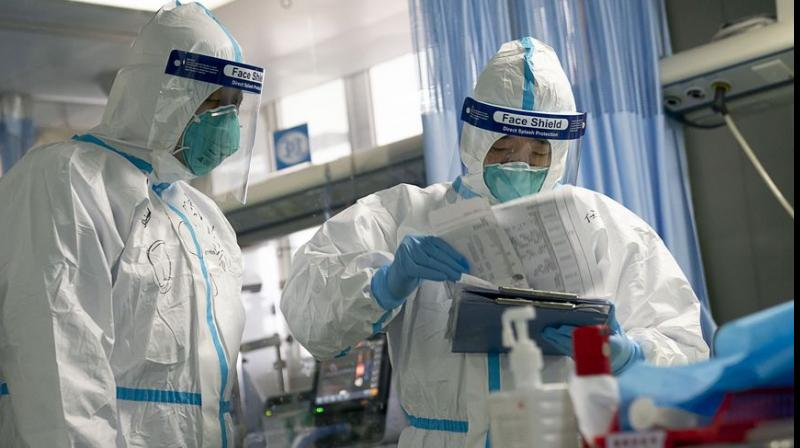Coverall: (360, 49, 653, 443), (12, 53, 246, 448)
Gloves: (380, 234, 469, 307)
with_mask: (180, 87, 243, 174), (486, 137, 548, 204)
